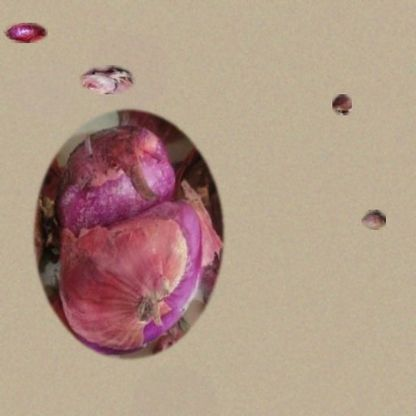damaged: (28, 102, 229, 367)
healthy: (3, 23, 48, 43)
rotten: (362, 210, 386, 230)
sprouted: (80, 65, 136, 94), (332, 94, 352, 115)
